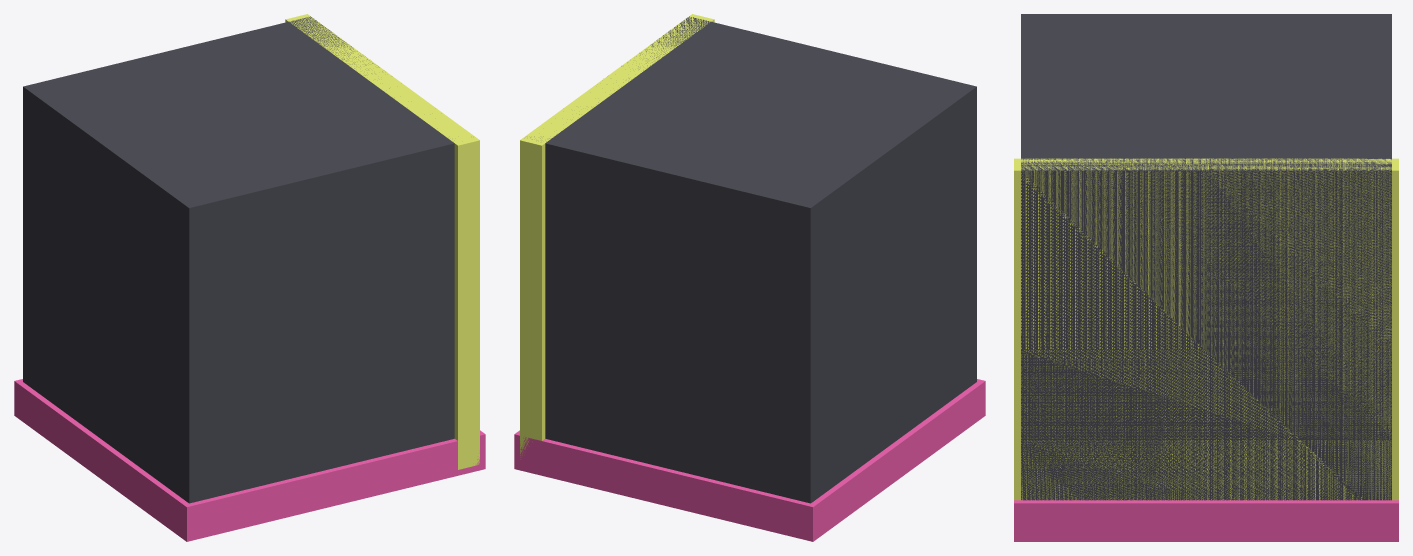
The model's file is ciclista_coxa.glb.
3 views of the same model, side by side, from view 1: azimuth 30°, elevation 25°; view 2: azimuth 150°, elevation 25°; view 3: azimuth 270°, elevation 25° (orthographic). The views are drawn at different scales.
Visible parts, largest first — view 1: ciclista_coxa; view 2: ciclista_coxa; view 3: ciclista_coxa.
Part boxes in pixels (left/top/right/bottom): ciclista_coxa: left=14, top=14, right=485, bottom=541; ciclista_coxa: left=514, top=14, right=985, bottom=541; ciclista_coxa: left=1014, top=14, right=1398, bottom=541.
Size of the model in its own units: 0.27 by 0.285 by 0.27.
